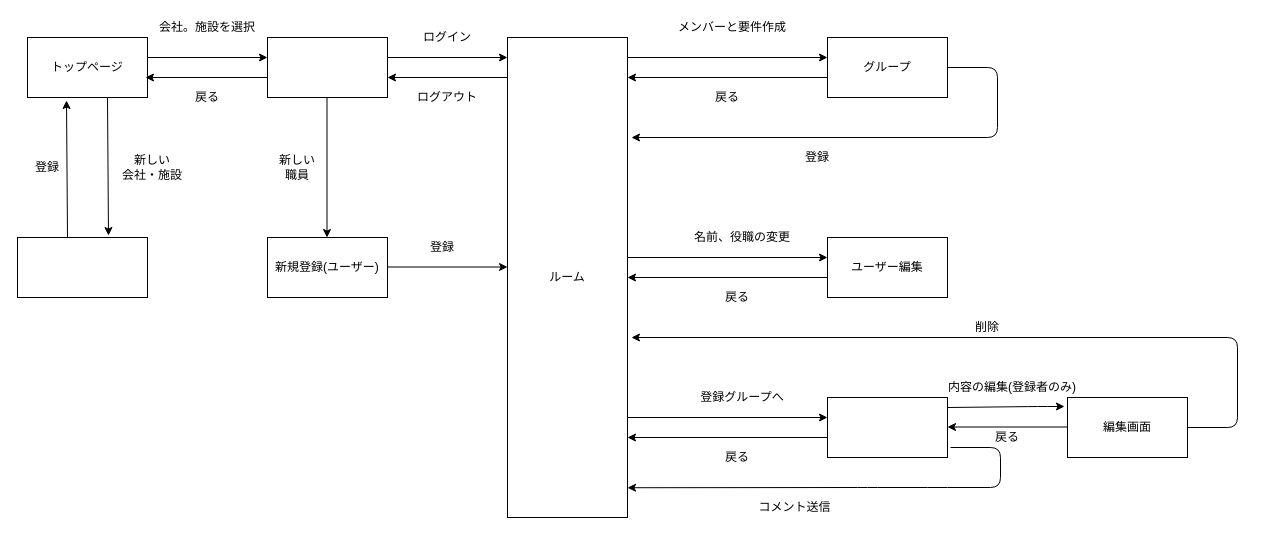
Image size: 1263x535. Some labels were removed from this diagram. Here are the shapes that lost their labels. From the top down, the centre of each, then its label:
point (327, 67): ログインページ
point (82, 267): 新規登録(会社・施設）
point (887, 427): グループ履歴
